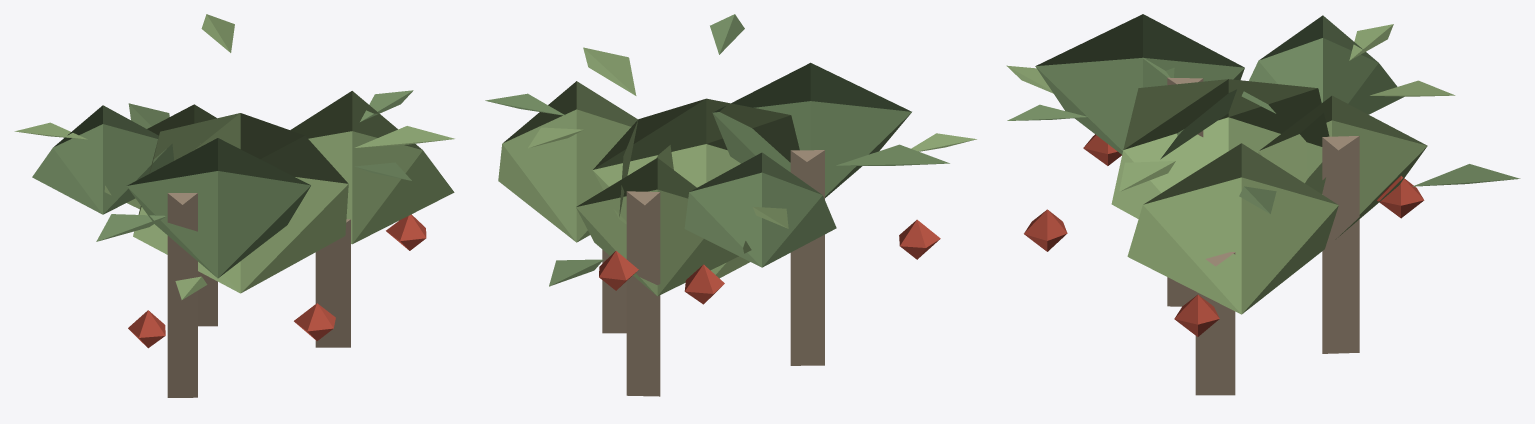
File: hua.ju@fruiting__summer.glb
3 views of the same model, side by side, from view 1: azimuth 30°, elevation 25°; view 2: azimuth 150°, elevation 25°; view 3: azimuth 270°, elevation 25° (orthographic). The views are drawn at different scales.
Visible parts, largest first — view 1: hua.ju@fruiting__summer; view 2: hua.ju@fruiting__summer; view 3: hua.ju@fruiting__summer.
Part boxes in pixels (bbox=[...]): hua.ju@fruiting__summer: bbox=[14, 14, 454, 397]; hua.ju@fruiting__summer: bbox=[485, 14, 976, 396]; hua.ju@fruiting__summer: bbox=[1006, 14, 1520, 395].
Bounding box in the file's own units: 1.24 × 0.8564 × 1.31.
